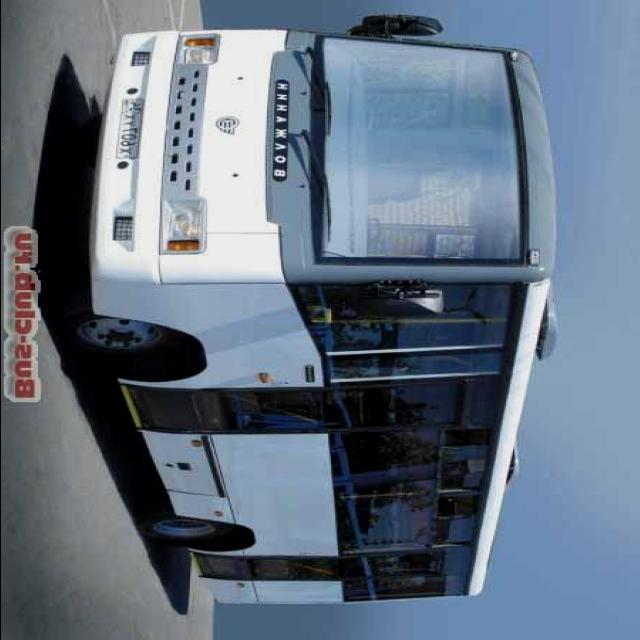bus: (71, 11, 566, 613)
